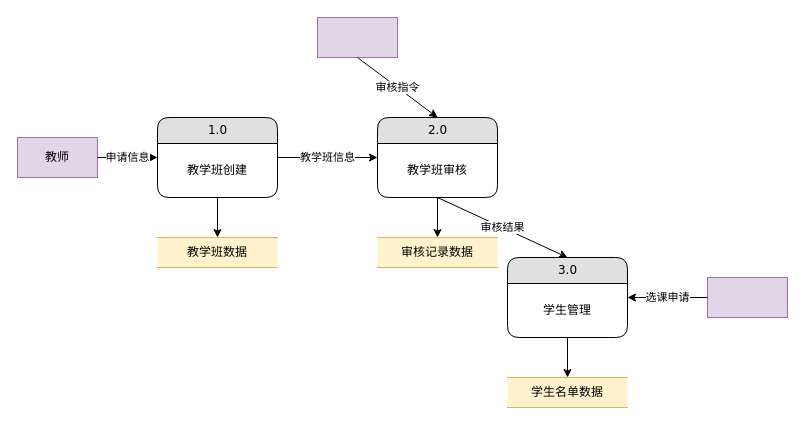
Some shapes in this 805 by 425 pixel diagram are drawn without their labels. Each missing label, with the centre of its shape:
"学生" goes at (747,297).
"管理员" goes at (357,37).
